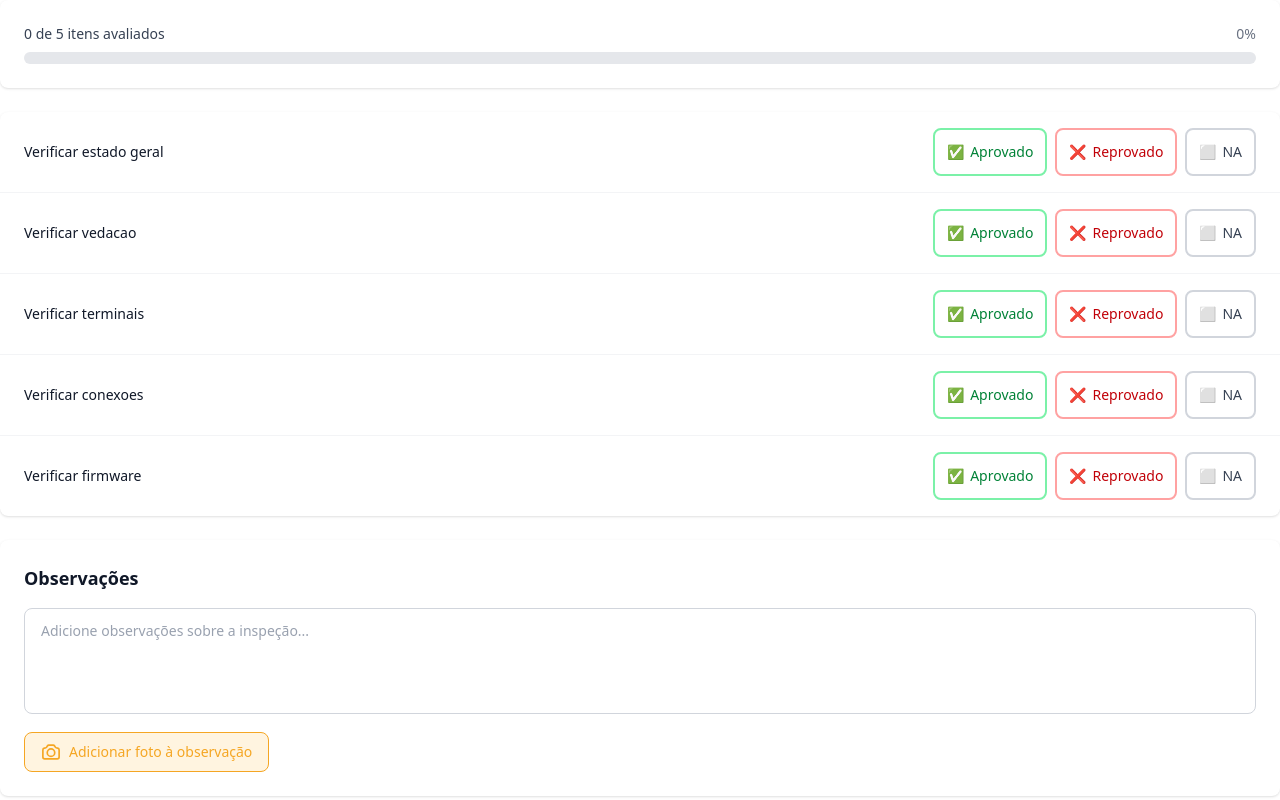
Scenario: ChecklistForm - Status Selection (US-302) › clicking Reprovado shows rejection reason field (US-303)
Click the button with aria-label "Reprovado -": (1116, 152) [1056,128,1178,176]
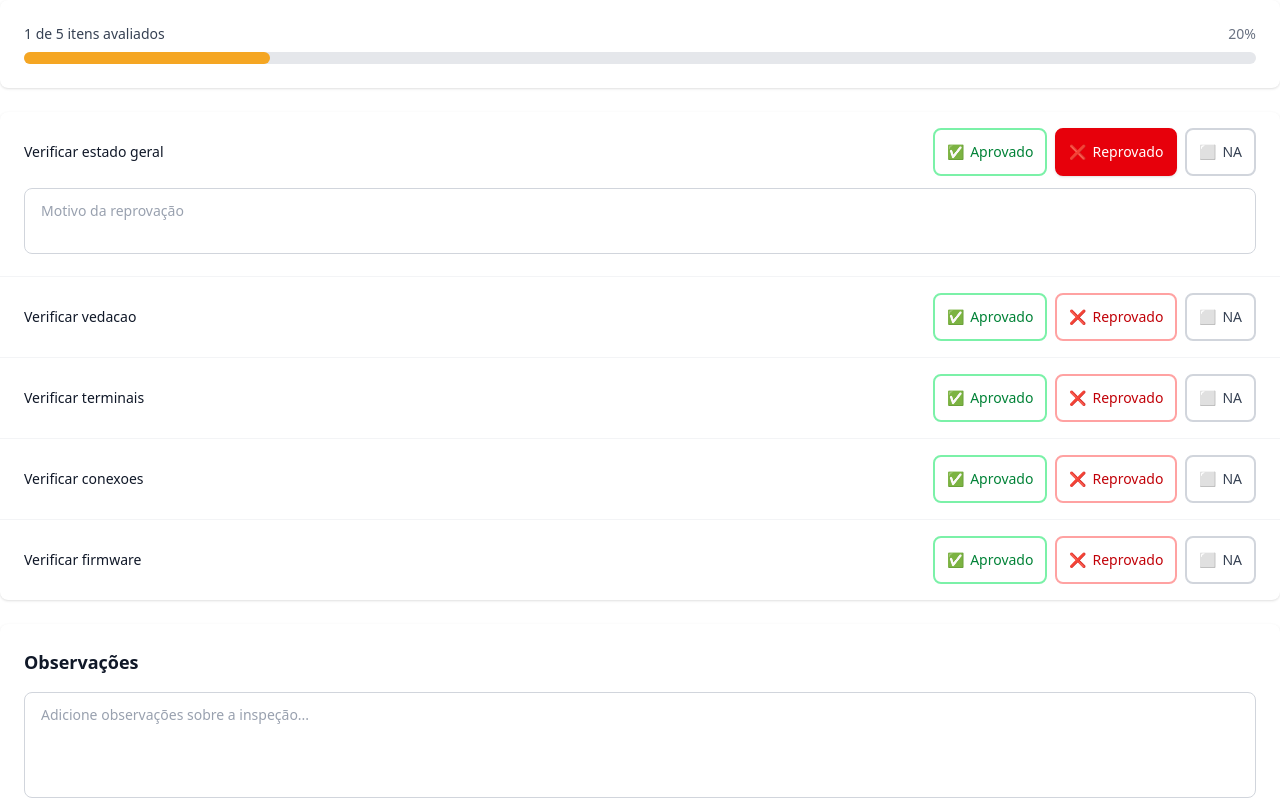
expect the text box with placeholder "Motivo da reprovação" is shown: met, box [24,188,1256,254]
